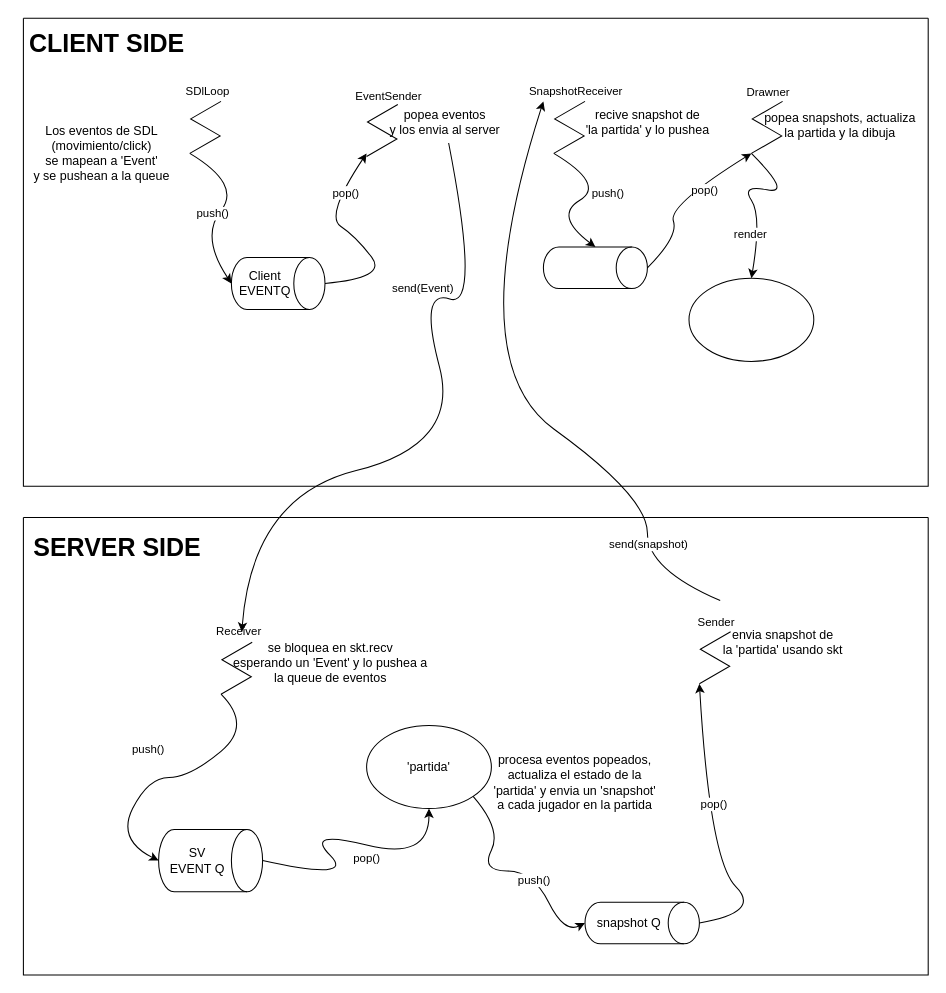
Some shapes in this 946 by 993 pixel diagram are drawn without their labels. Each missing label, with the centre of its shape:
"'partida' (vista)" goes at (x=751, y=319).
"SnapshotQ" goes at (x=594, y=267).
